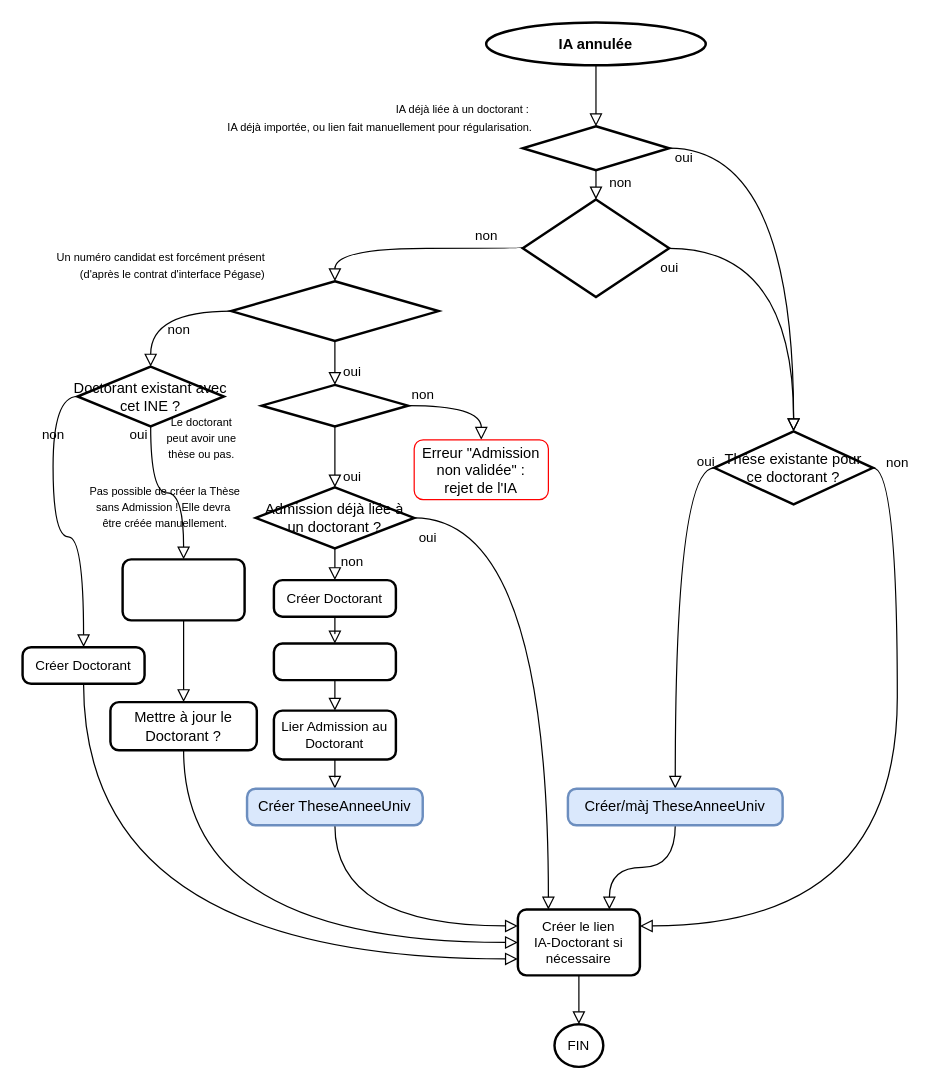
This 928x1088 diagram has some shape labels left out. Here are the shapes that lost their labels. From the top down, the box of each, then its label:
(521, 124, 670, 171): IA liée à un doctorant ?
(521, 198, 670, 298): Doctorant existant avec le même code apprenant ?
(229, 279, 439, 342): Admission existante avec le même numéro cand ?
(260, 383, 409, 427): Admission validée ?
(121, 558, 245, 621): Renseigner le code apprenant du doctorant
(272, 642, 396, 681): Créer These
